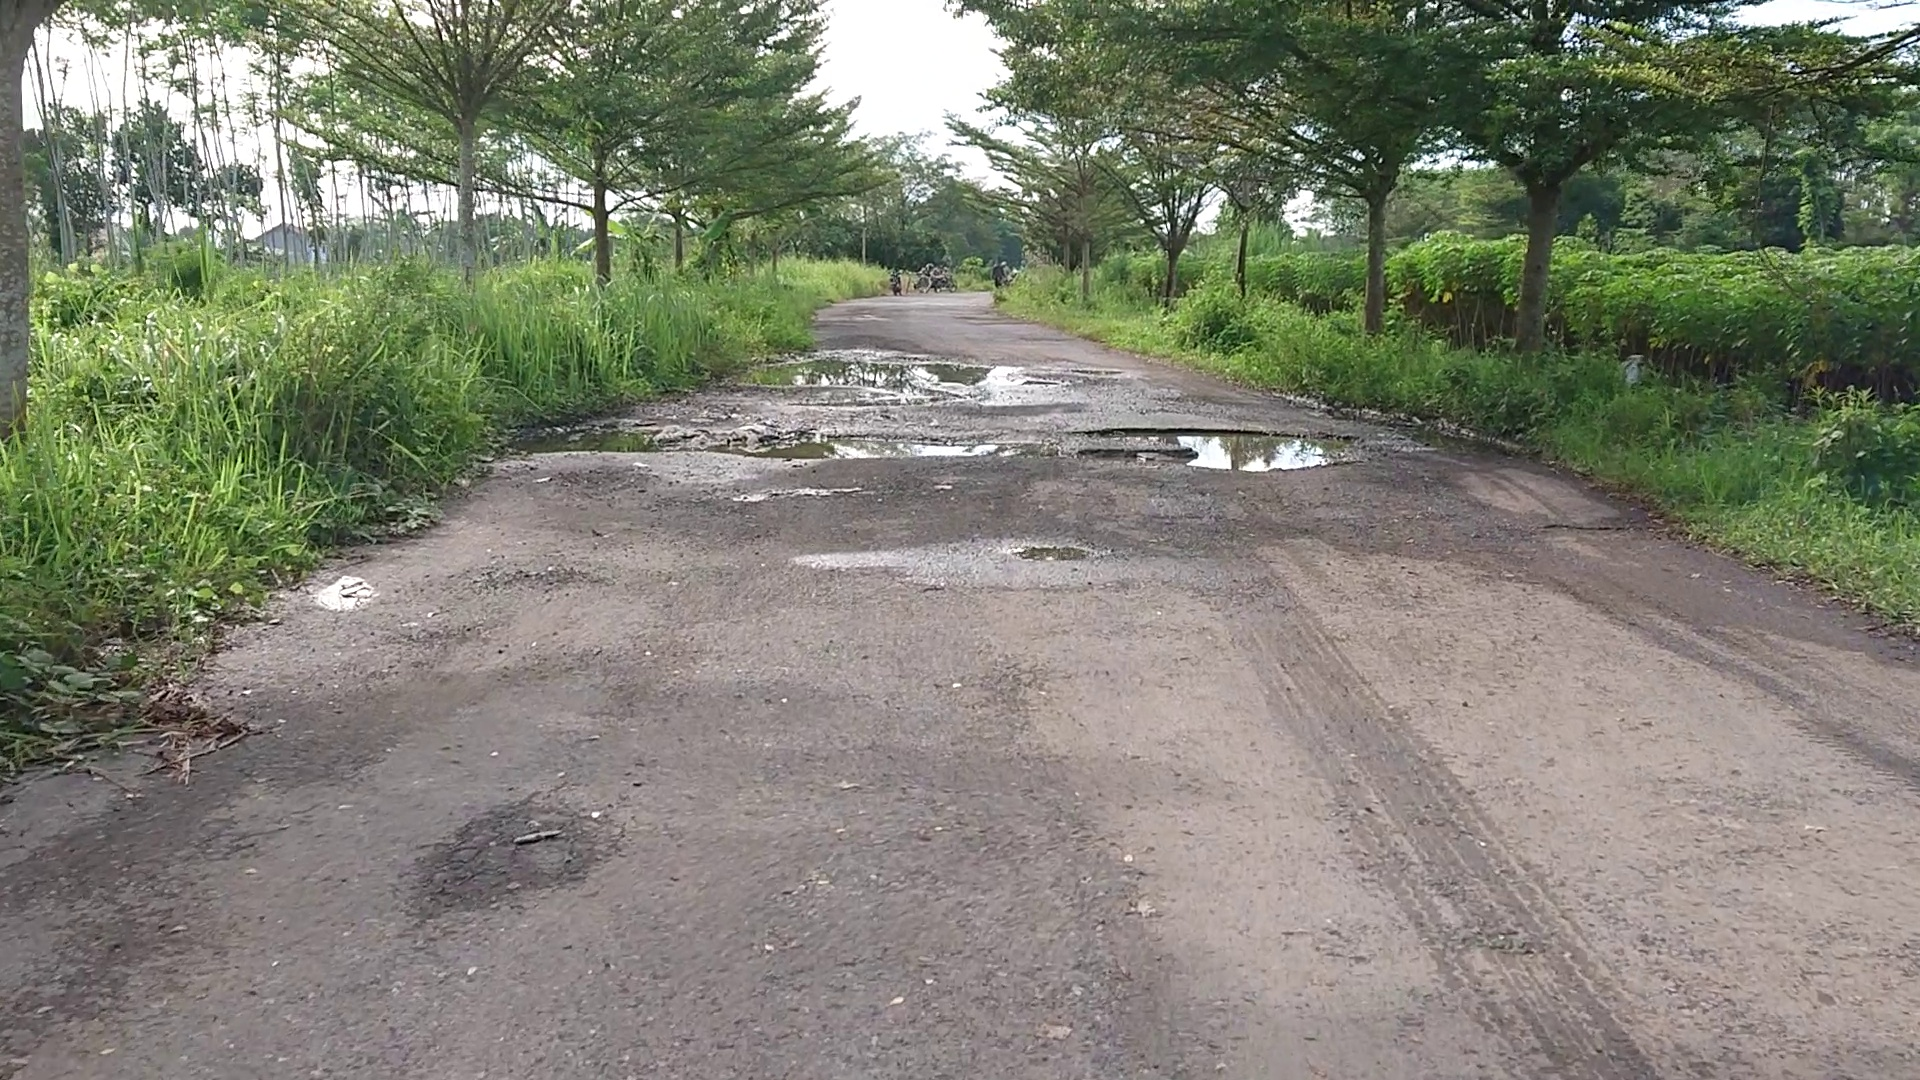Berlubang: (1091, 426, 1393, 477), (748, 433, 1058, 465), (750, 365, 1058, 397), (509, 431, 713, 458)
